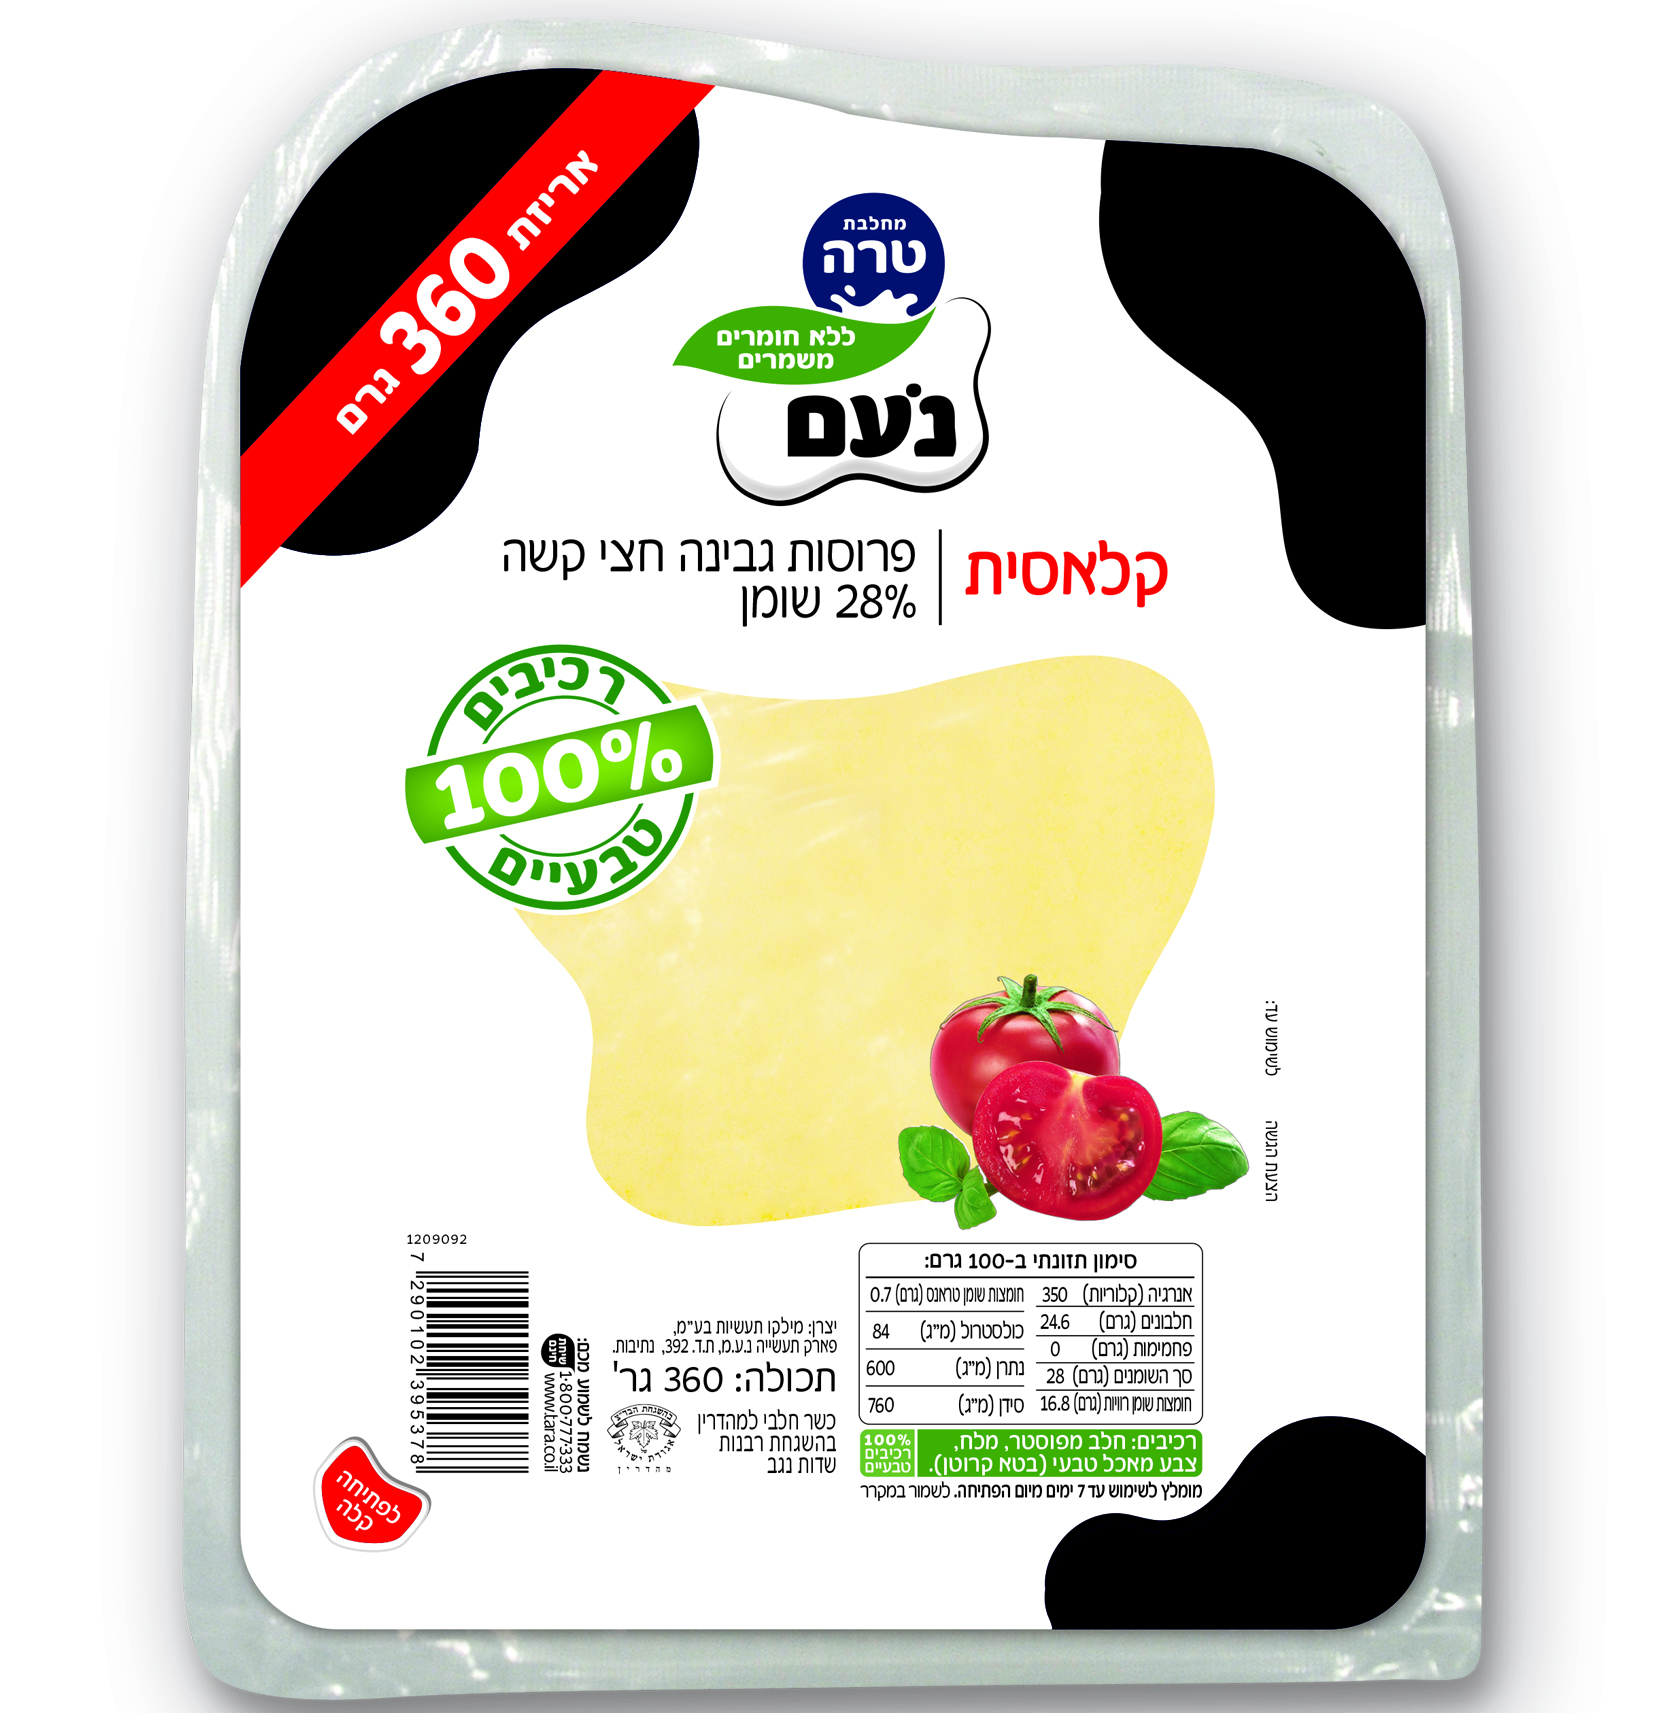Cheese: (181, 14, 1481, 1699)
